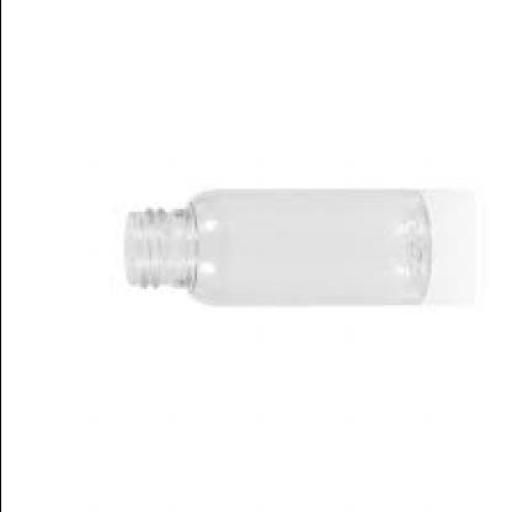glass: (121, 194, 428, 307)
